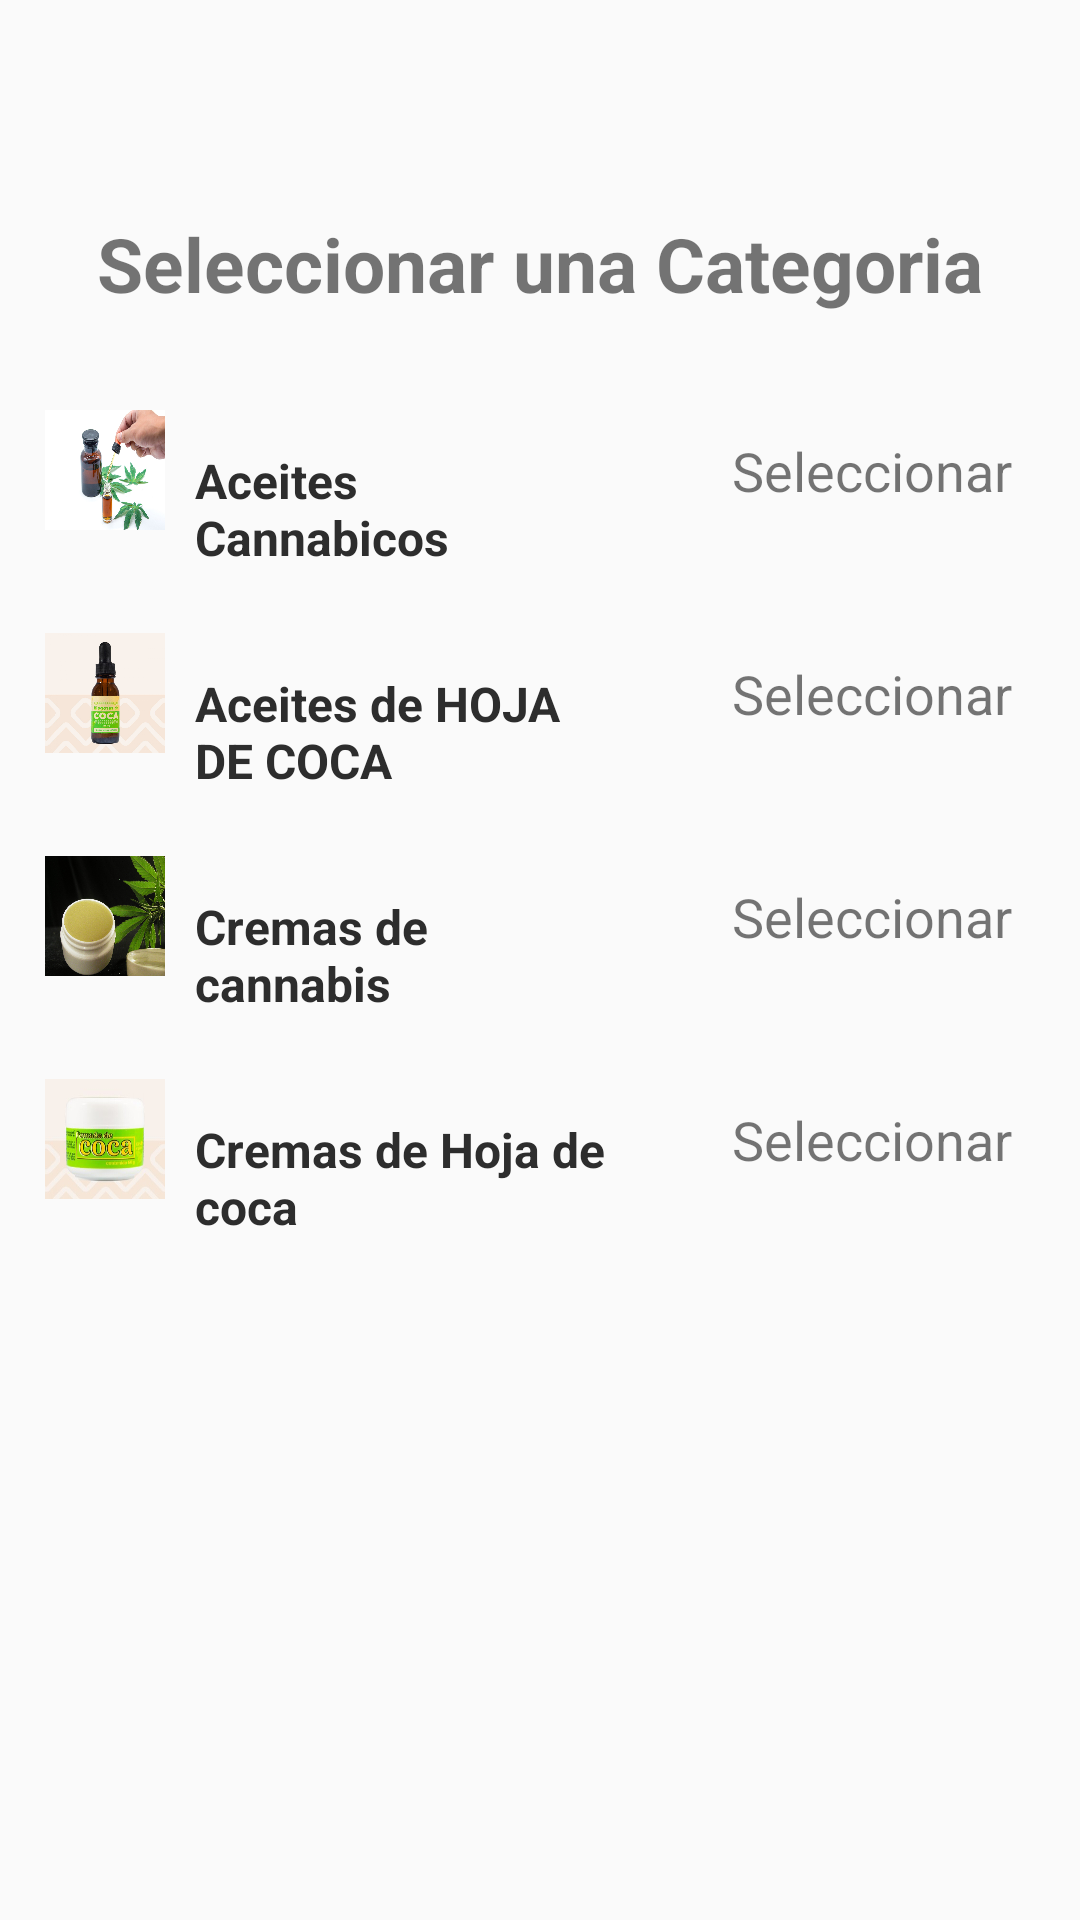

Screen size 1080*1920. Icon name, then its center in pixels as (x,y):
biogotas: (105,693)
cannpng: (122,470)
cremacannabis: (105,916)
pomada: (105,1148)
